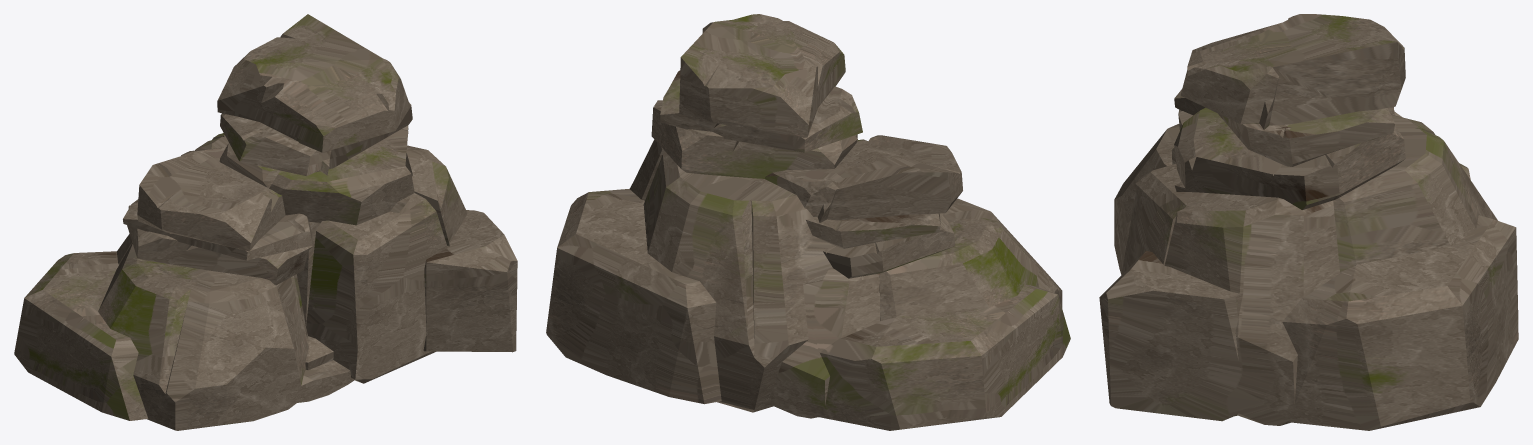
File: bigrock.fbx
The picture shows the model from 3 angles, left to right: view 1: azimuth 30°, elevation 25°; view 2: azimuth 150°, elevation 25°; view 3: azimuth 270°, elevation 25°; orthographic projection. The views are drawn at different scales.
Visible parts, largest first — view 1: Cube.015; view 2: Cube.015; view 3: Cube.015.
Part boxes in pixels (box(x1,y1,x2,y2)): Cube.015: box(14, 14, 517, 430); Cube.015: box(546, 14, 1070, 430); Cube.015: box(1099, 14, 1518, 430).
Bounding box in the file's own units: 1480 × 961 × 1099.
Materials: 1 (1 with a texture image).
